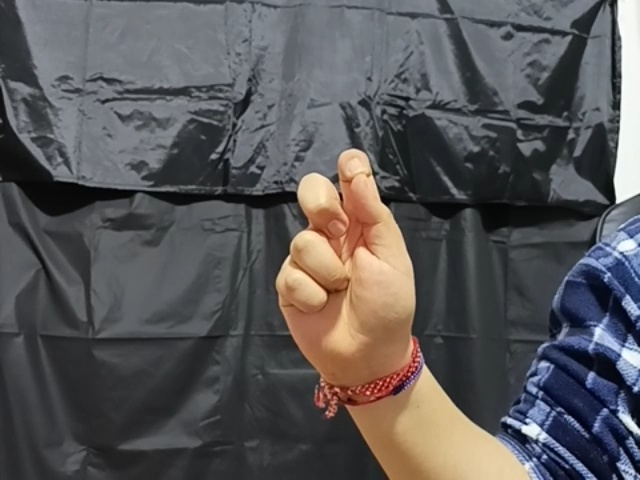T: (277, 145, 426, 366)
